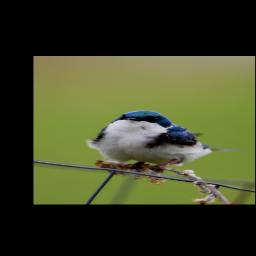Swallow: (85, 110, 247, 173)
